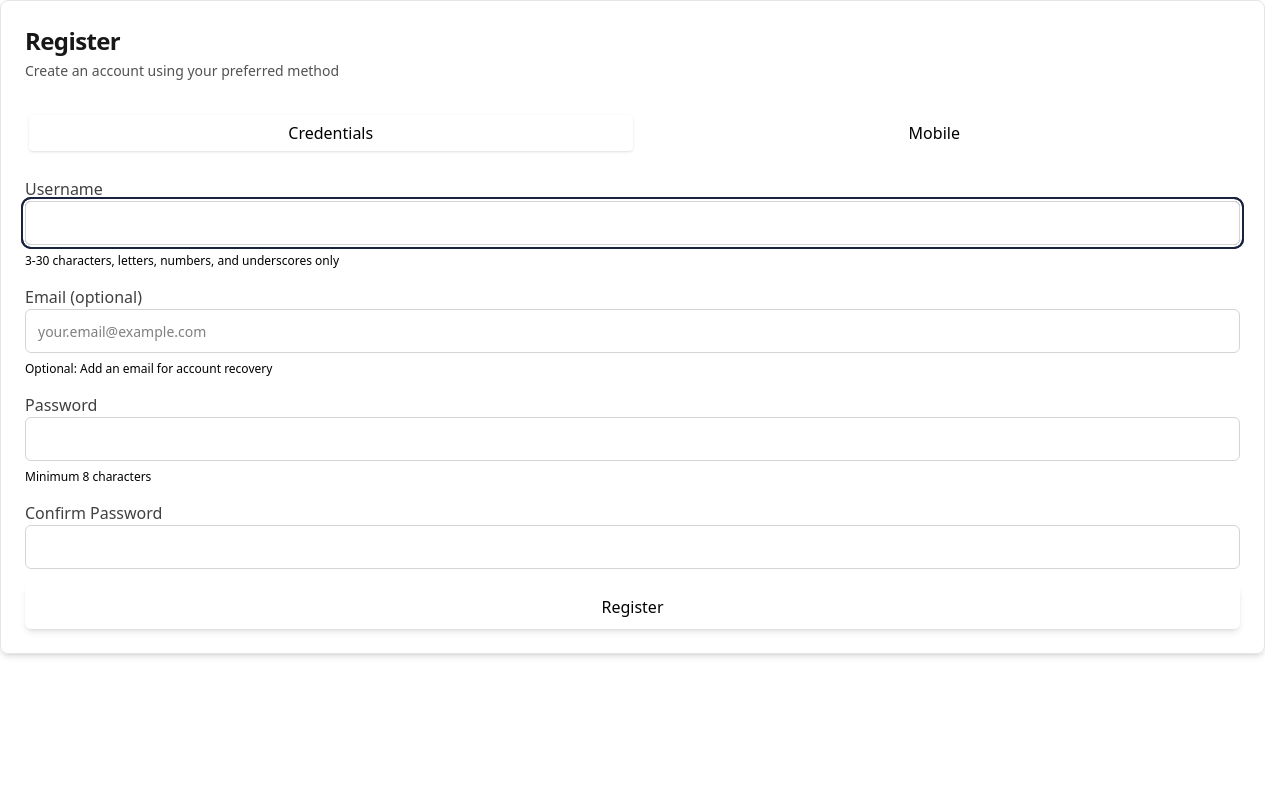
Test: RegistrationForm Component › should validate password confirmation
Type "testuser" into the field labelled "Username" at x=632, y=223, box x1=25 y1=201 x2=1240 y2=245
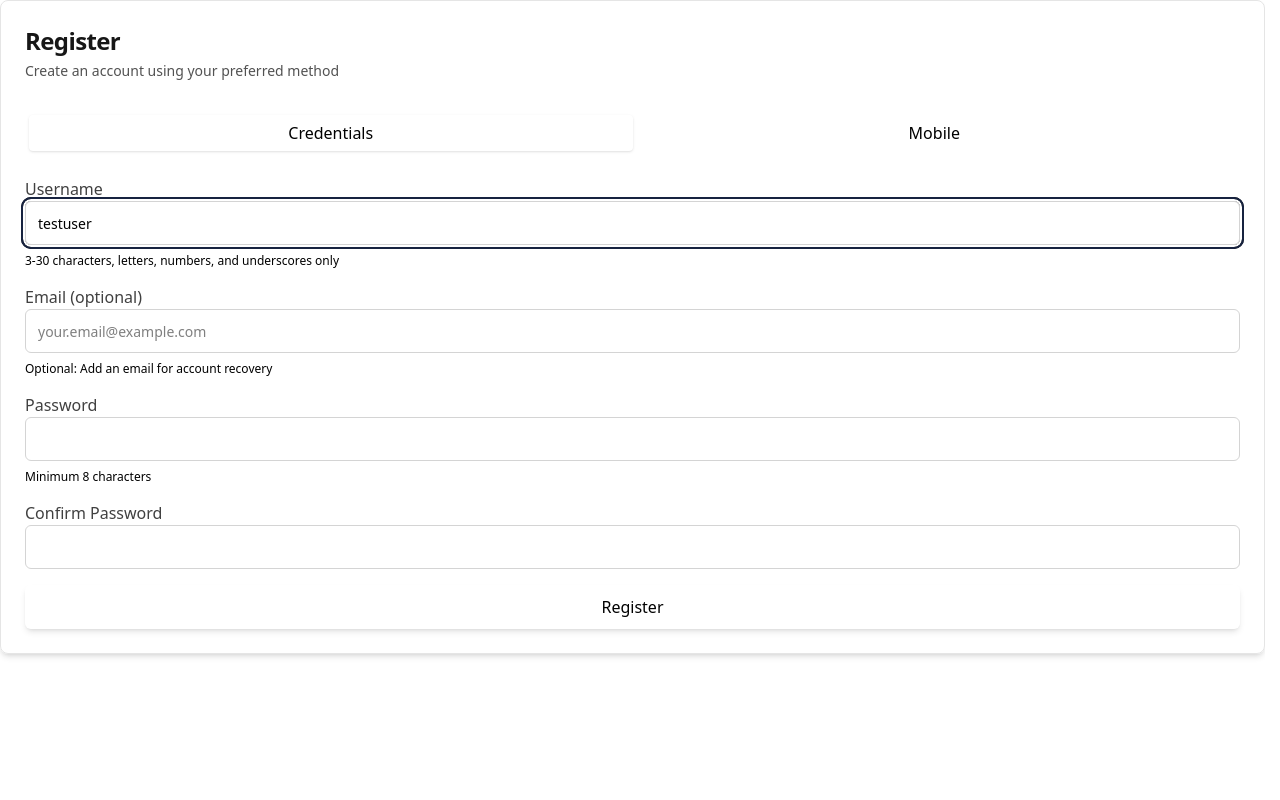
Type "password123" into the password field labelled "Password" at x=632, y=439, box x1=25 y1=417 x2=1240 y2=461
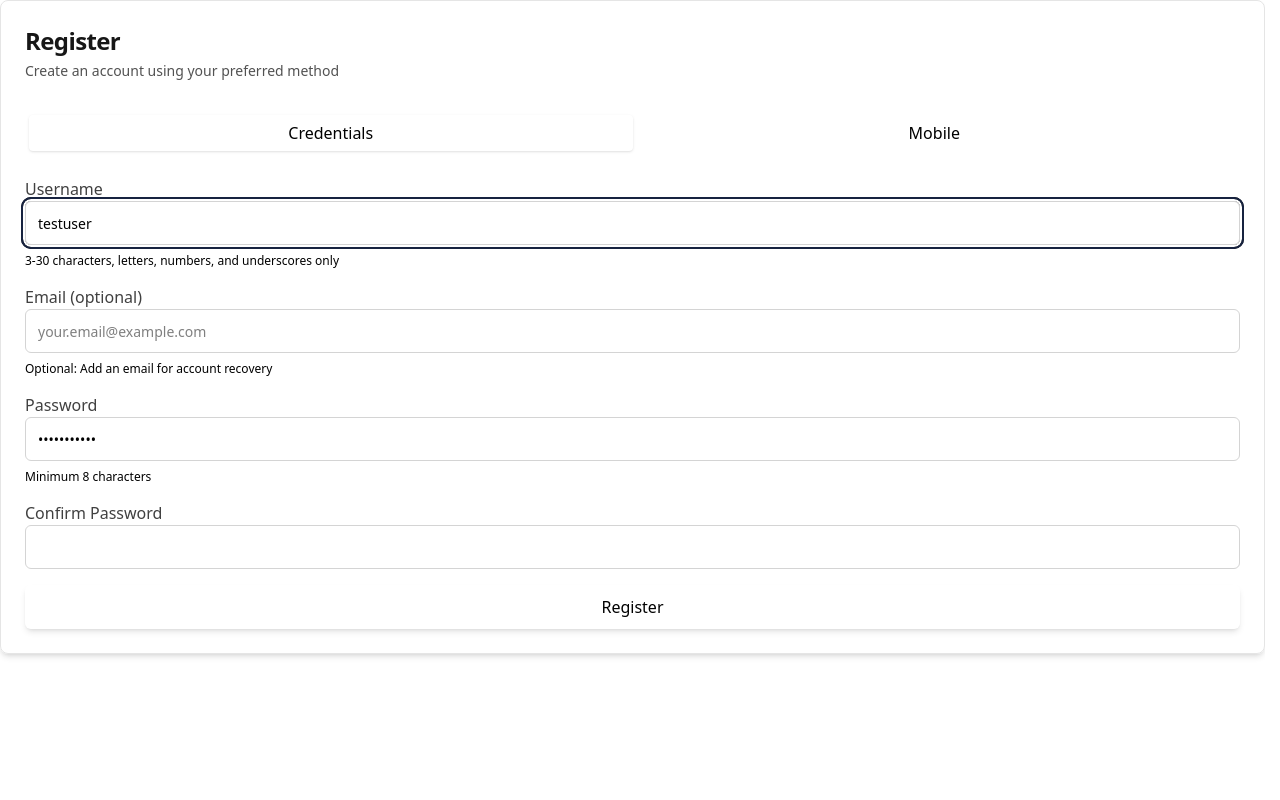
Type "different" into the password field labelled "Confirm Password" at x=632, y=547, box x1=25 y1=525 x2=1240 y2=569
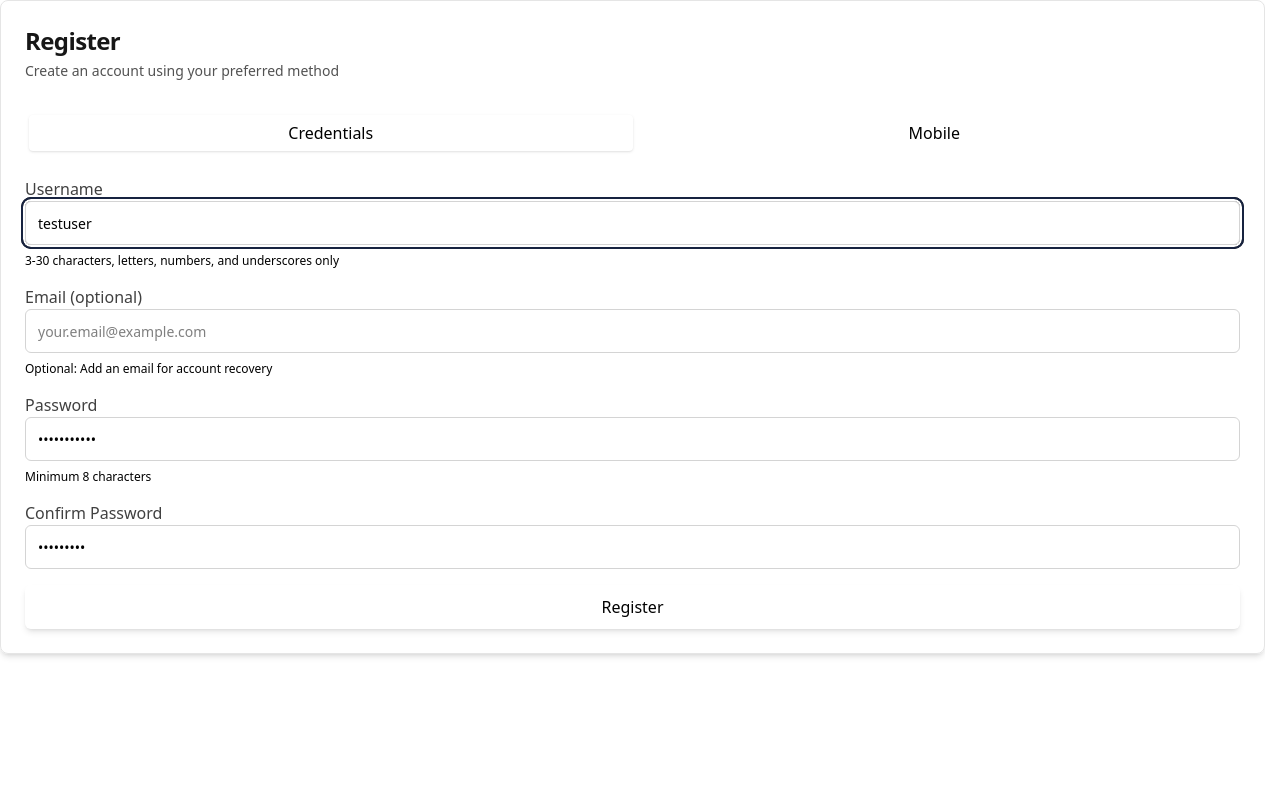
Click the button "Register" at x=632, y=607, box x1=25 y1=585 x2=1240 y2=629
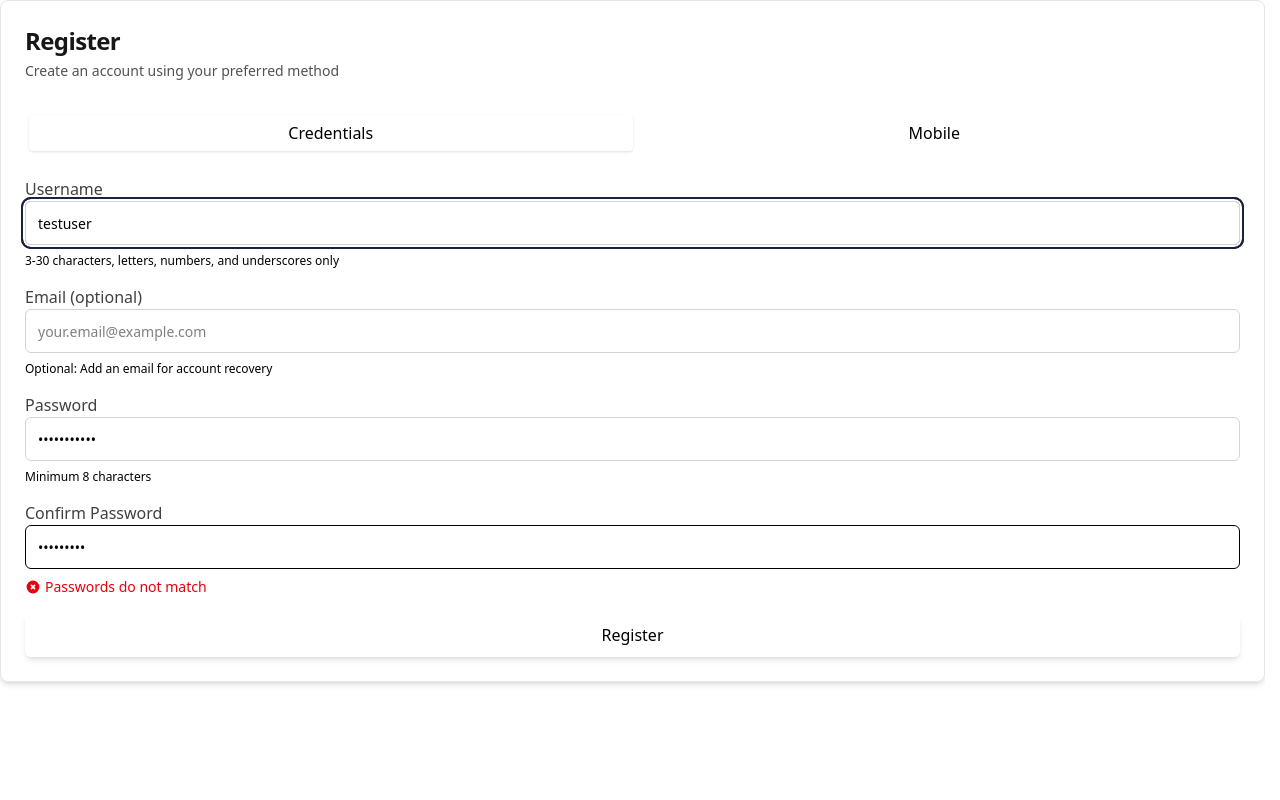
Expected: the text "Passwords do not match" is shown, x1=25 y1=577 x2=207 y2=596
